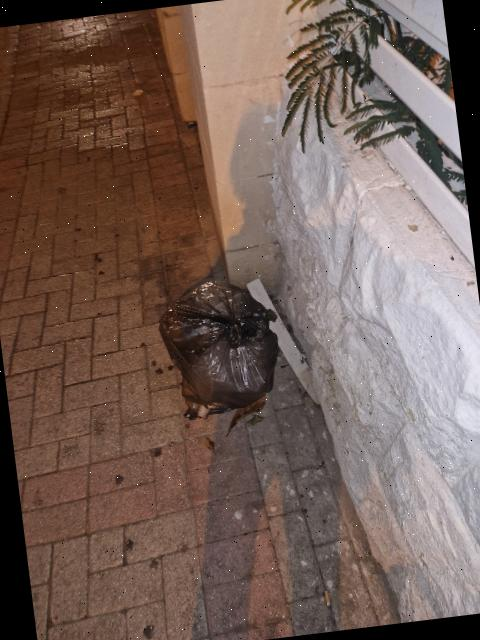Mixed -Black-: (159, 279, 278, 423)
